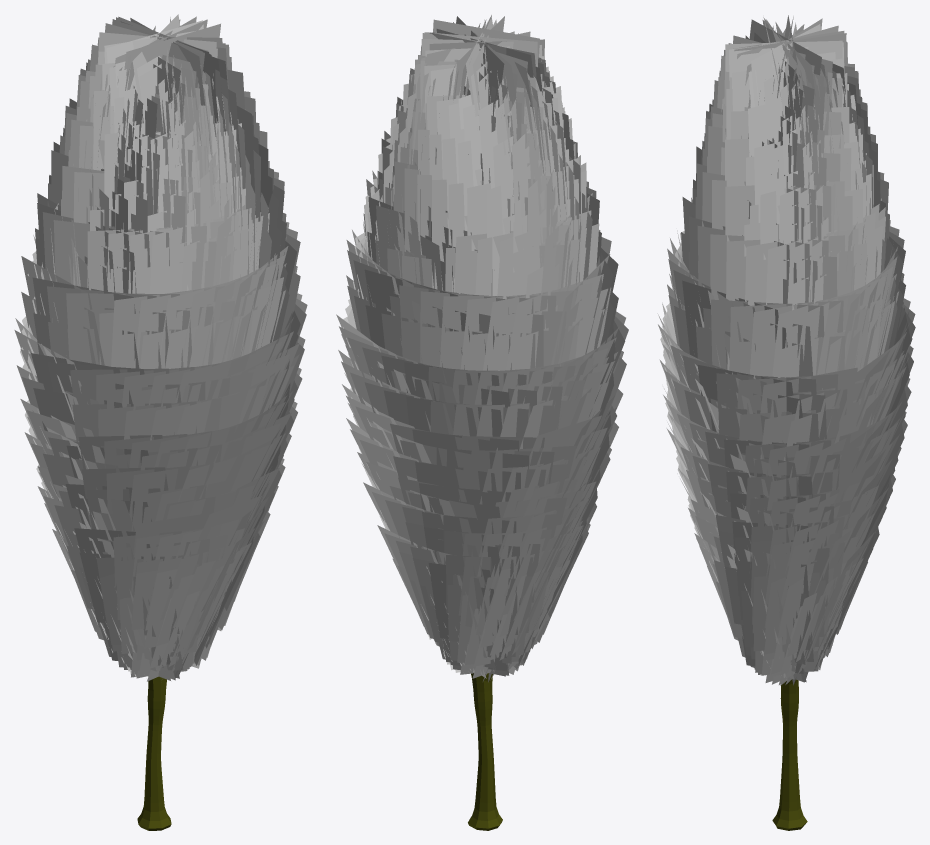
Rendered from CypressTree.fbx.
The picture shows the model from 3 angles, left to right: view 1: azimuth 30°, elevation 25°; view 2: azimuth 150°, elevation 25°; view 3: azimuth 270°, elevation 25°; orthographic projection.
Visible parts, largest first — view 1: CypressTree.001; view 2: CypressTree.001; view 3: CypressTree.001.
Part boxes in pixels (<box>): CypressTree.001: <box>14,14,307,830</box>; CypressTree.001: <box>336,15,628,830</box>; CypressTree.001: <box>657,15,915,830</box>.
Bounding box in the file's own units: 20.61 × 59.6 × 17.64.
